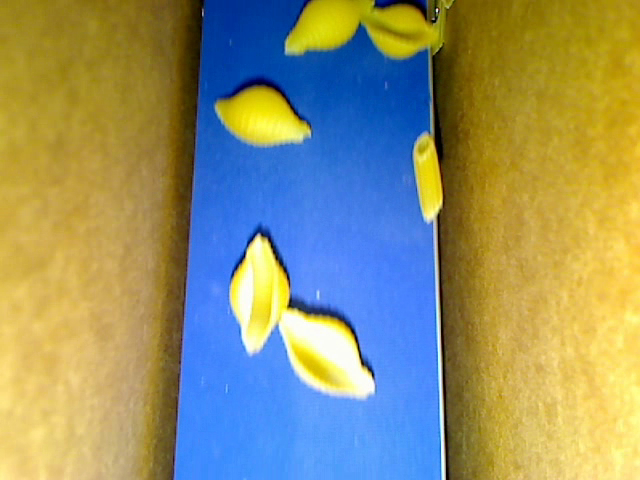penne: (411, 126, 443, 224), (429, 1, 446, 62), (434, 1, 457, 13)
shell: (276, 306, 376, 400), (226, 229, 291, 355), (214, 84, 312, 146), (280, 1, 375, 59), (361, 1, 438, 63)
